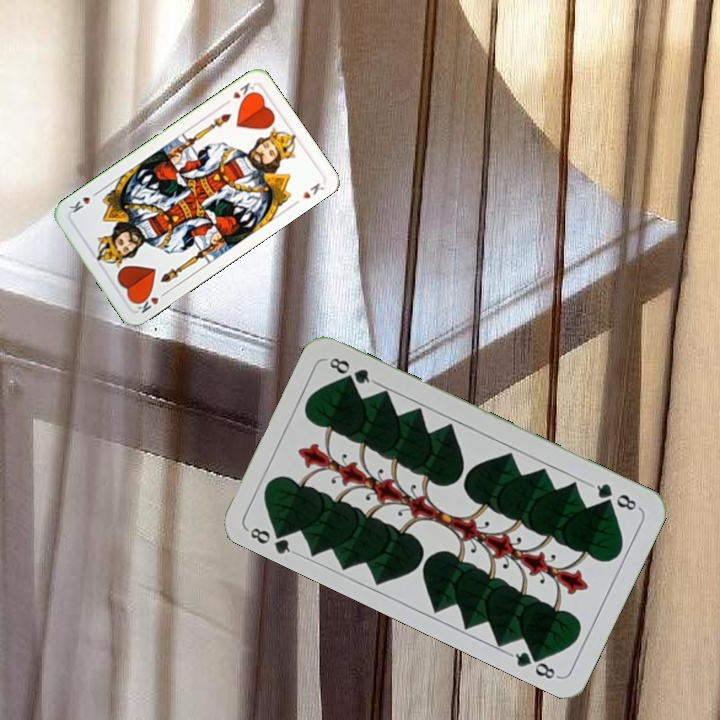G8: (243, 522, 299, 558), (587, 479, 642, 513)
HK: (220, 79, 259, 108), (131, 287, 170, 316)
